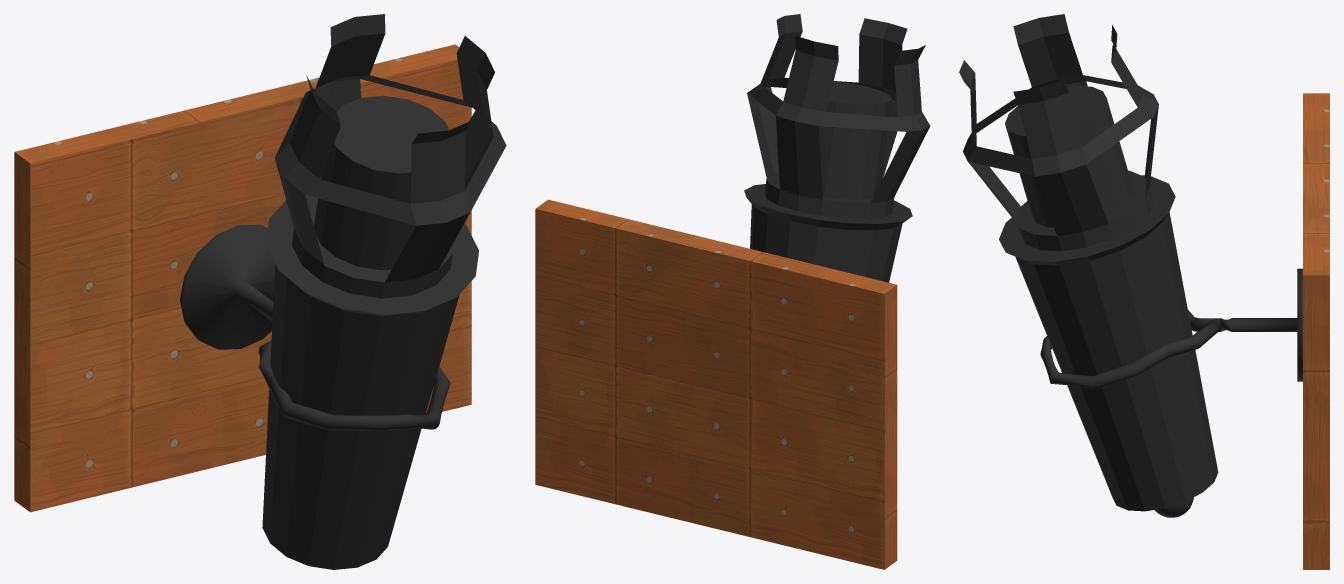
The model's file is torch.fbx.
The picture shows the model from 3 angles, left to right: view 1: azimuth 30°, elevation 25°; view 2: azimuth 150°, elevation 25°; view 3: azimuth 270°, elevation 25°; orthographic projection. The views are drawn at different scales.
Parts seen in each view (by area): view 1: Torch; view 2: Torch; view 3: Torch.
Boxes of the visible parts, bbox=[...] form: Torch: bbox=[14, 14, 506, 569]; Torch: bbox=[535, 14, 930, 569]; Torch: bbox=[959, 14, 1329, 569].
Bounding box in the file's own units: 56.33 × 69.56 × 48.53.
